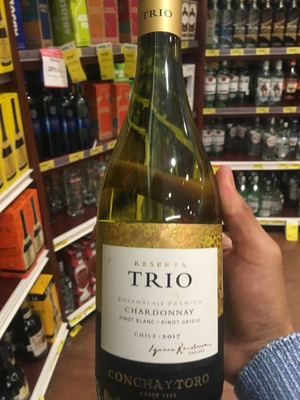trio chardonnay: (90, 2, 233, 400)
